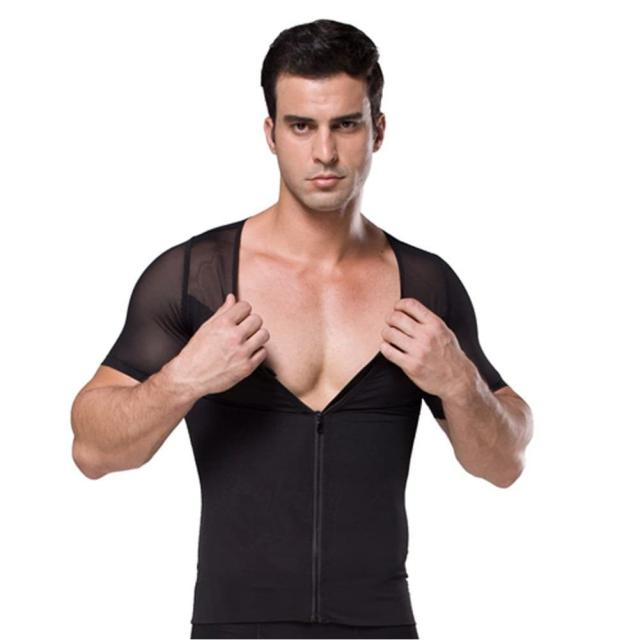mobile_phonerotation: (69, 18, 535, 639)
